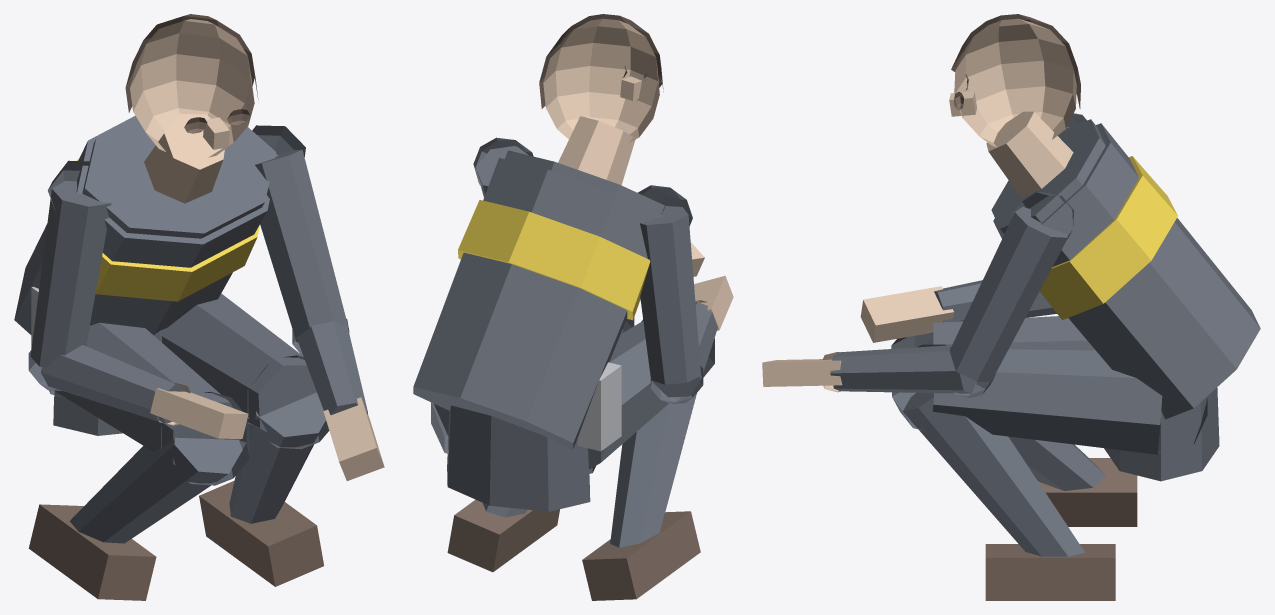
Rendered from low-poly-character-figures-mechanic-crouching-8e48b12b__36361.glb.
The picture shows the model from 3 angles, left to right: view 1: azimuth 30°, elevation 25°; view 2: azimuth 150°, elevation 25°; view 3: azimuth 270°, elevation 25°; orthographic projection. The views are drawn at different scales.
Parts seen in each view (by area): view 1: mechanic-crouching; view 2: mechanic-crouching; view 3: mechanic-crouching.
Part boxes in pixels (x1,y1,x2,y2): mechanic-crouching: [14, 14, 384, 600]; mechanic-crouching: [413, 14, 733, 600]; mechanic-crouching: [762, 14, 1260, 600].
Bounding box in the file's own units: 0.5284 × 1.12 × 0.9389.
